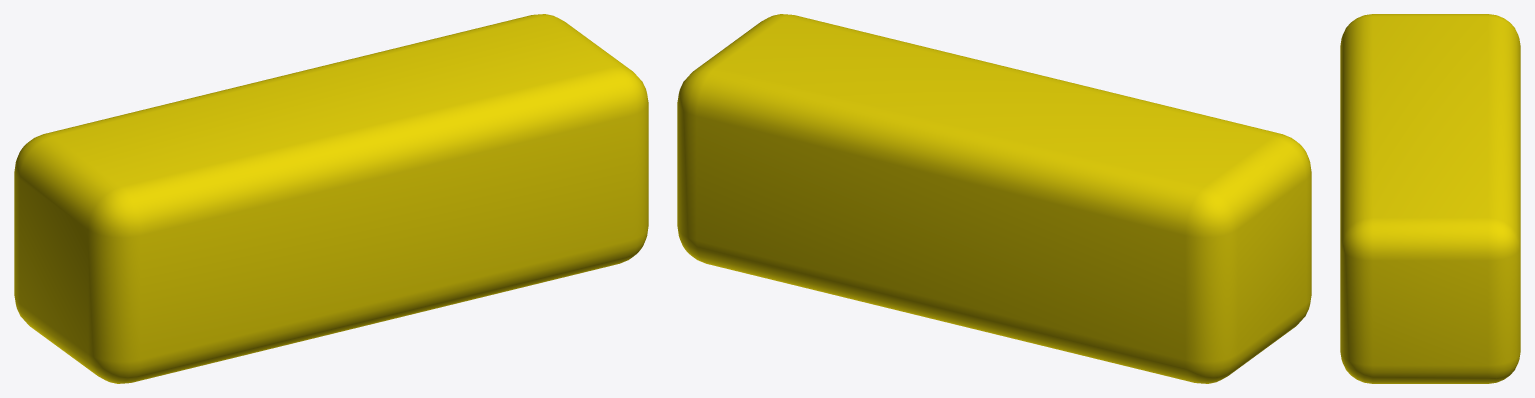
3 views of the same model, side by side, from view 1: azimuth 30°, elevation 25°; view 2: azimuth 150°, elevation 25°; view 3: azimuth 270°, elevation 25° (orthographic). The views are drawn at different scales.
Visible parts, largest first — view 1: 3; view 2: 3; view 3: 3.
Part boxes in pixels (x1,y1,x2,y2): 3: (14, 14, 648, 383); 3: (677, 14, 1311, 383); 3: (1340, 14, 1520, 383).
Bounding box in the file's own units: 300 × 100 × 100.
